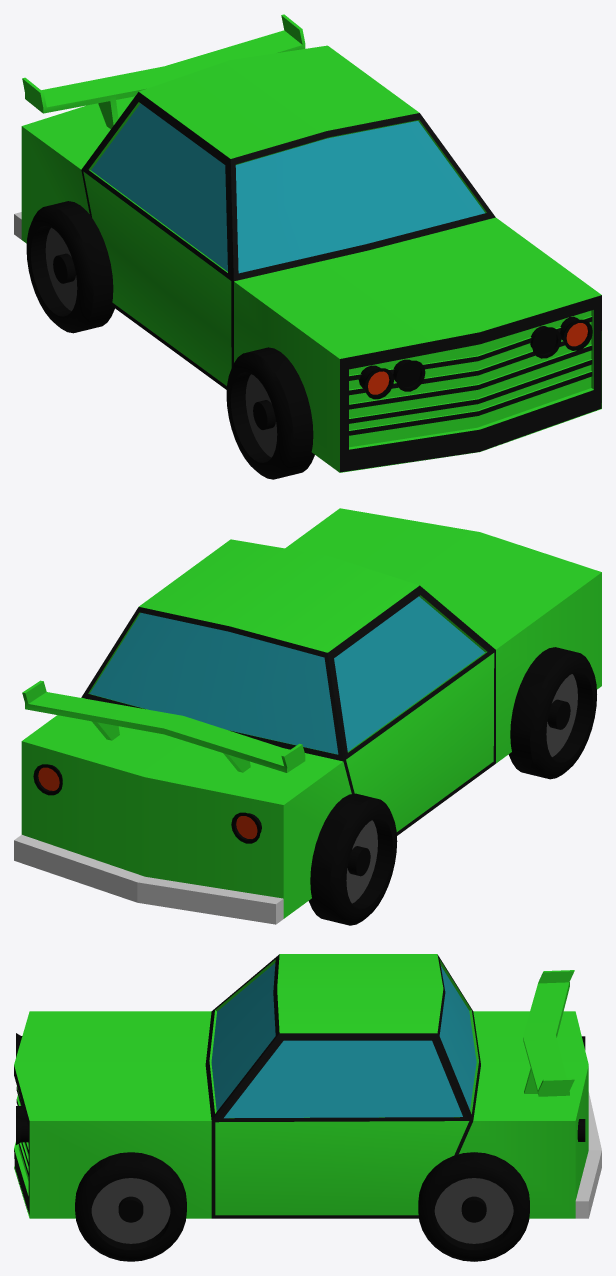
The model's file is car1.obj.
3 renders of one model, top to bottom at view 1: azimuth 30°, elevation 25°; view 2: azimuth 150°, elevation 25°; view 3: azimuth 270°, elevation 25°, orthographic. The views are drawn at different scales.
Visible parts, largest first — view 1: Cube, Circle.001, Circle; view 2: Cube, Circle.001, Circle; view 3: Cube, Circle.001, Circle.
Part boxes in pixels (<box>): Cube: <box>14,14,601,472</box>; Circle.001: <box>26,201,314,479</box>; Circle: <box>359,316,592,399</box>; Cube: <box>14,508,601,924</box>; Circle.001: <box>309,647,596,925</box>; Circle: <box>33,764,261,843</box>; Cube: <box>14,954,601,1218</box>; Circle.001: <box>75,1152,529,1261</box>; Circle: <box>16,1033,585,1144</box>.
Bounding box in the file's own units: 3.46 × 2.57 × 6.51.
